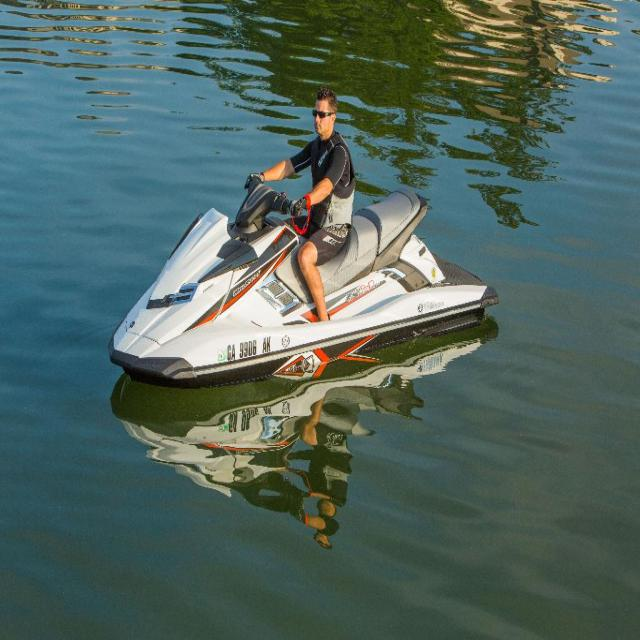Boat: (107, 176, 502, 385)
